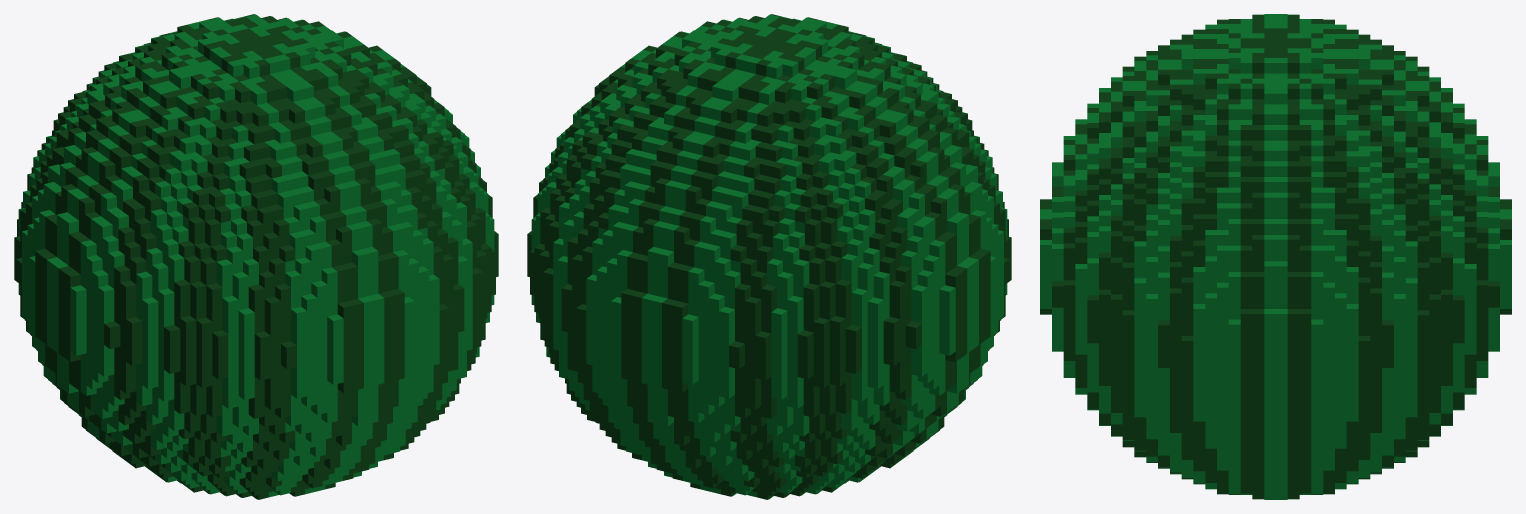
The model's file is арбуз почему нет.obj.
The picture shows the model from 3 angles, left to right: view 1: azimuth 30°, elevation 25°; view 2: azimuth 150°, elevation 25°; view 3: azimuth 270°, elevation 25°; orthographic projection.
Bounding box in the file's own units: 4 × 4 × 4.
Materials: 1 (1 with a texture image).
